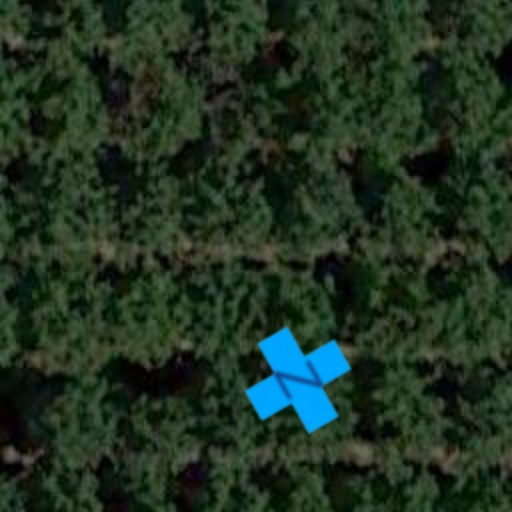cross: (226, 308, 370, 452)
